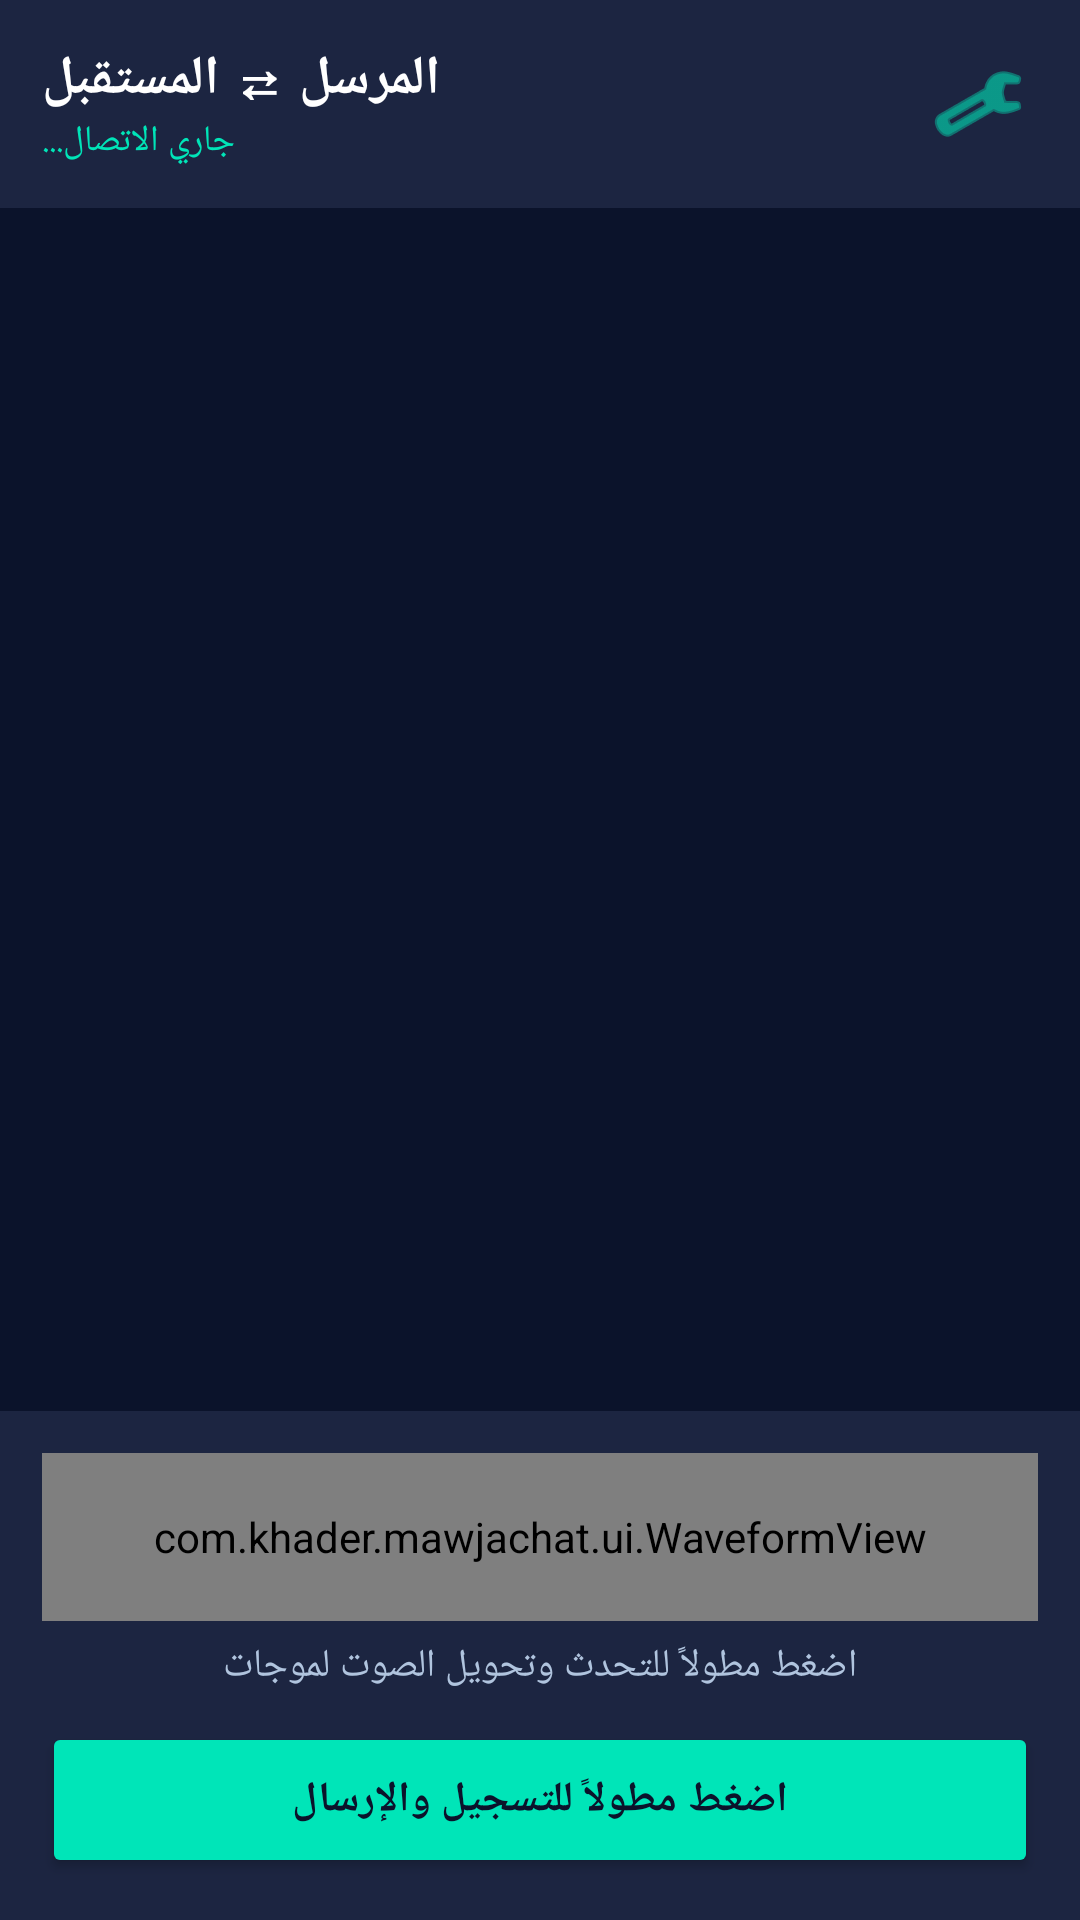

Icons on this 1080px×1920px Android screen, each with its box as region(x1, y1, x2, y2):
الإعدادات: region(935, 71, 1021, 137)
